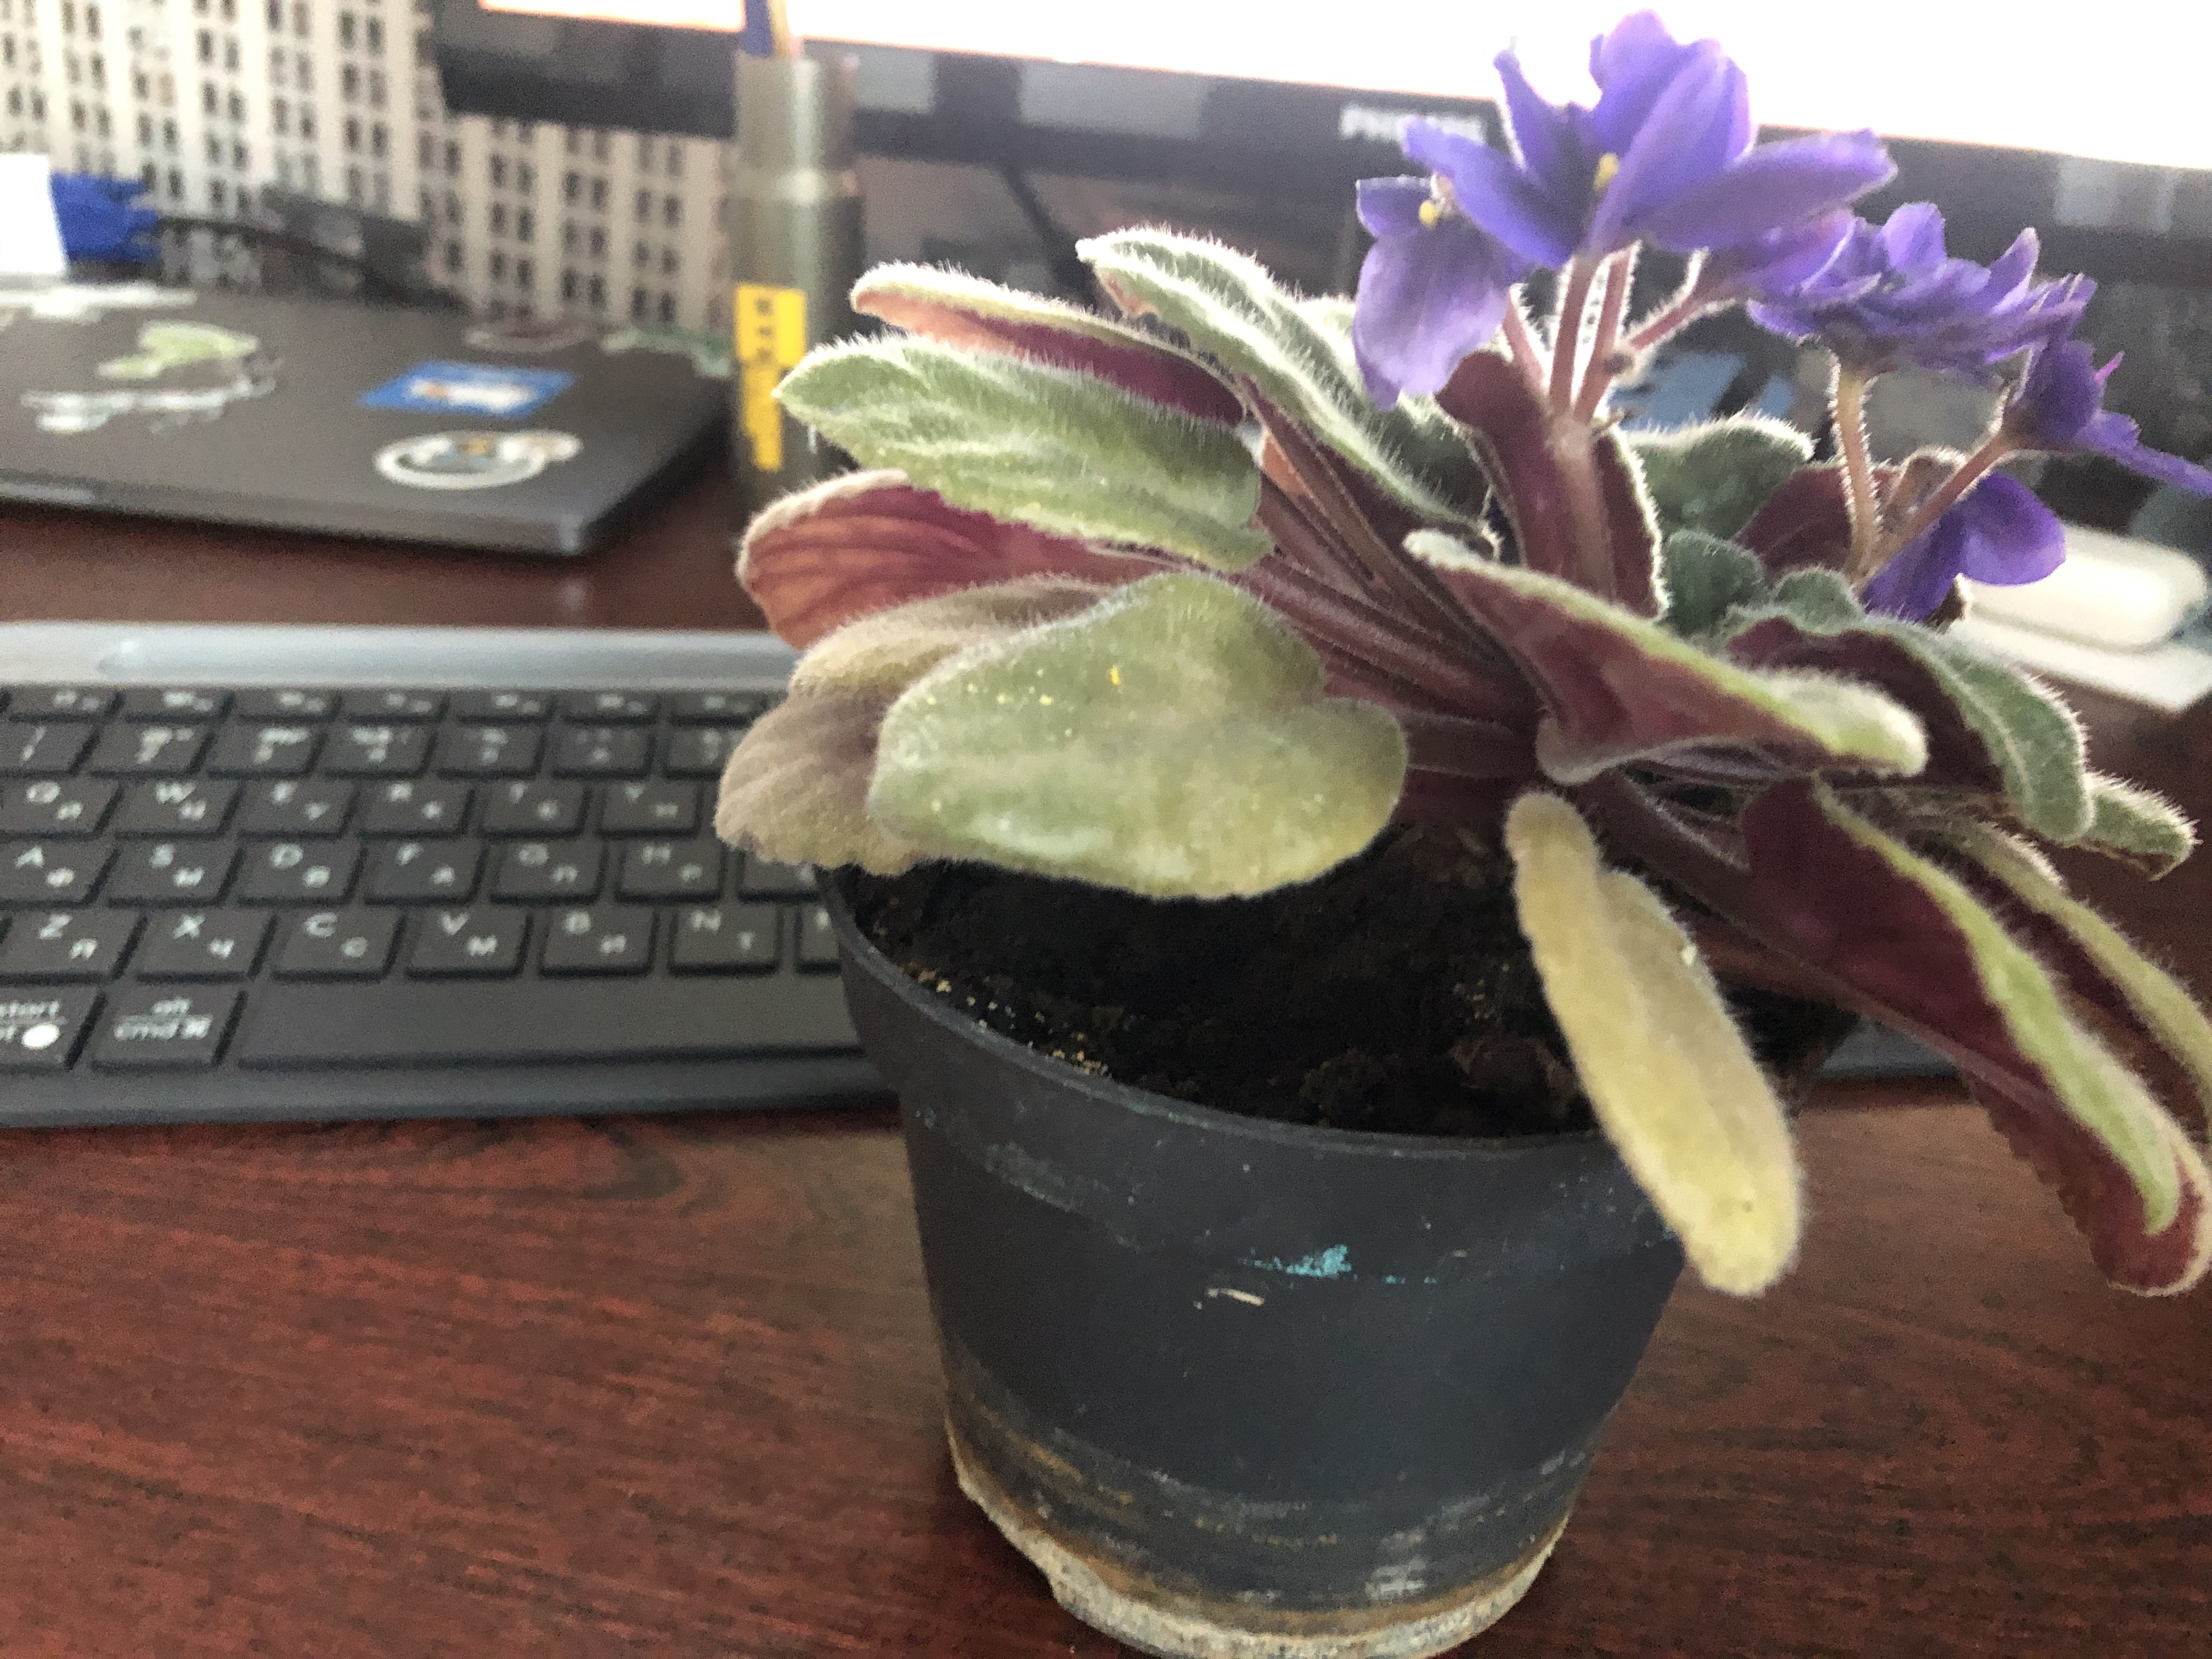ignore: (768, 5, 2200, 1258)
